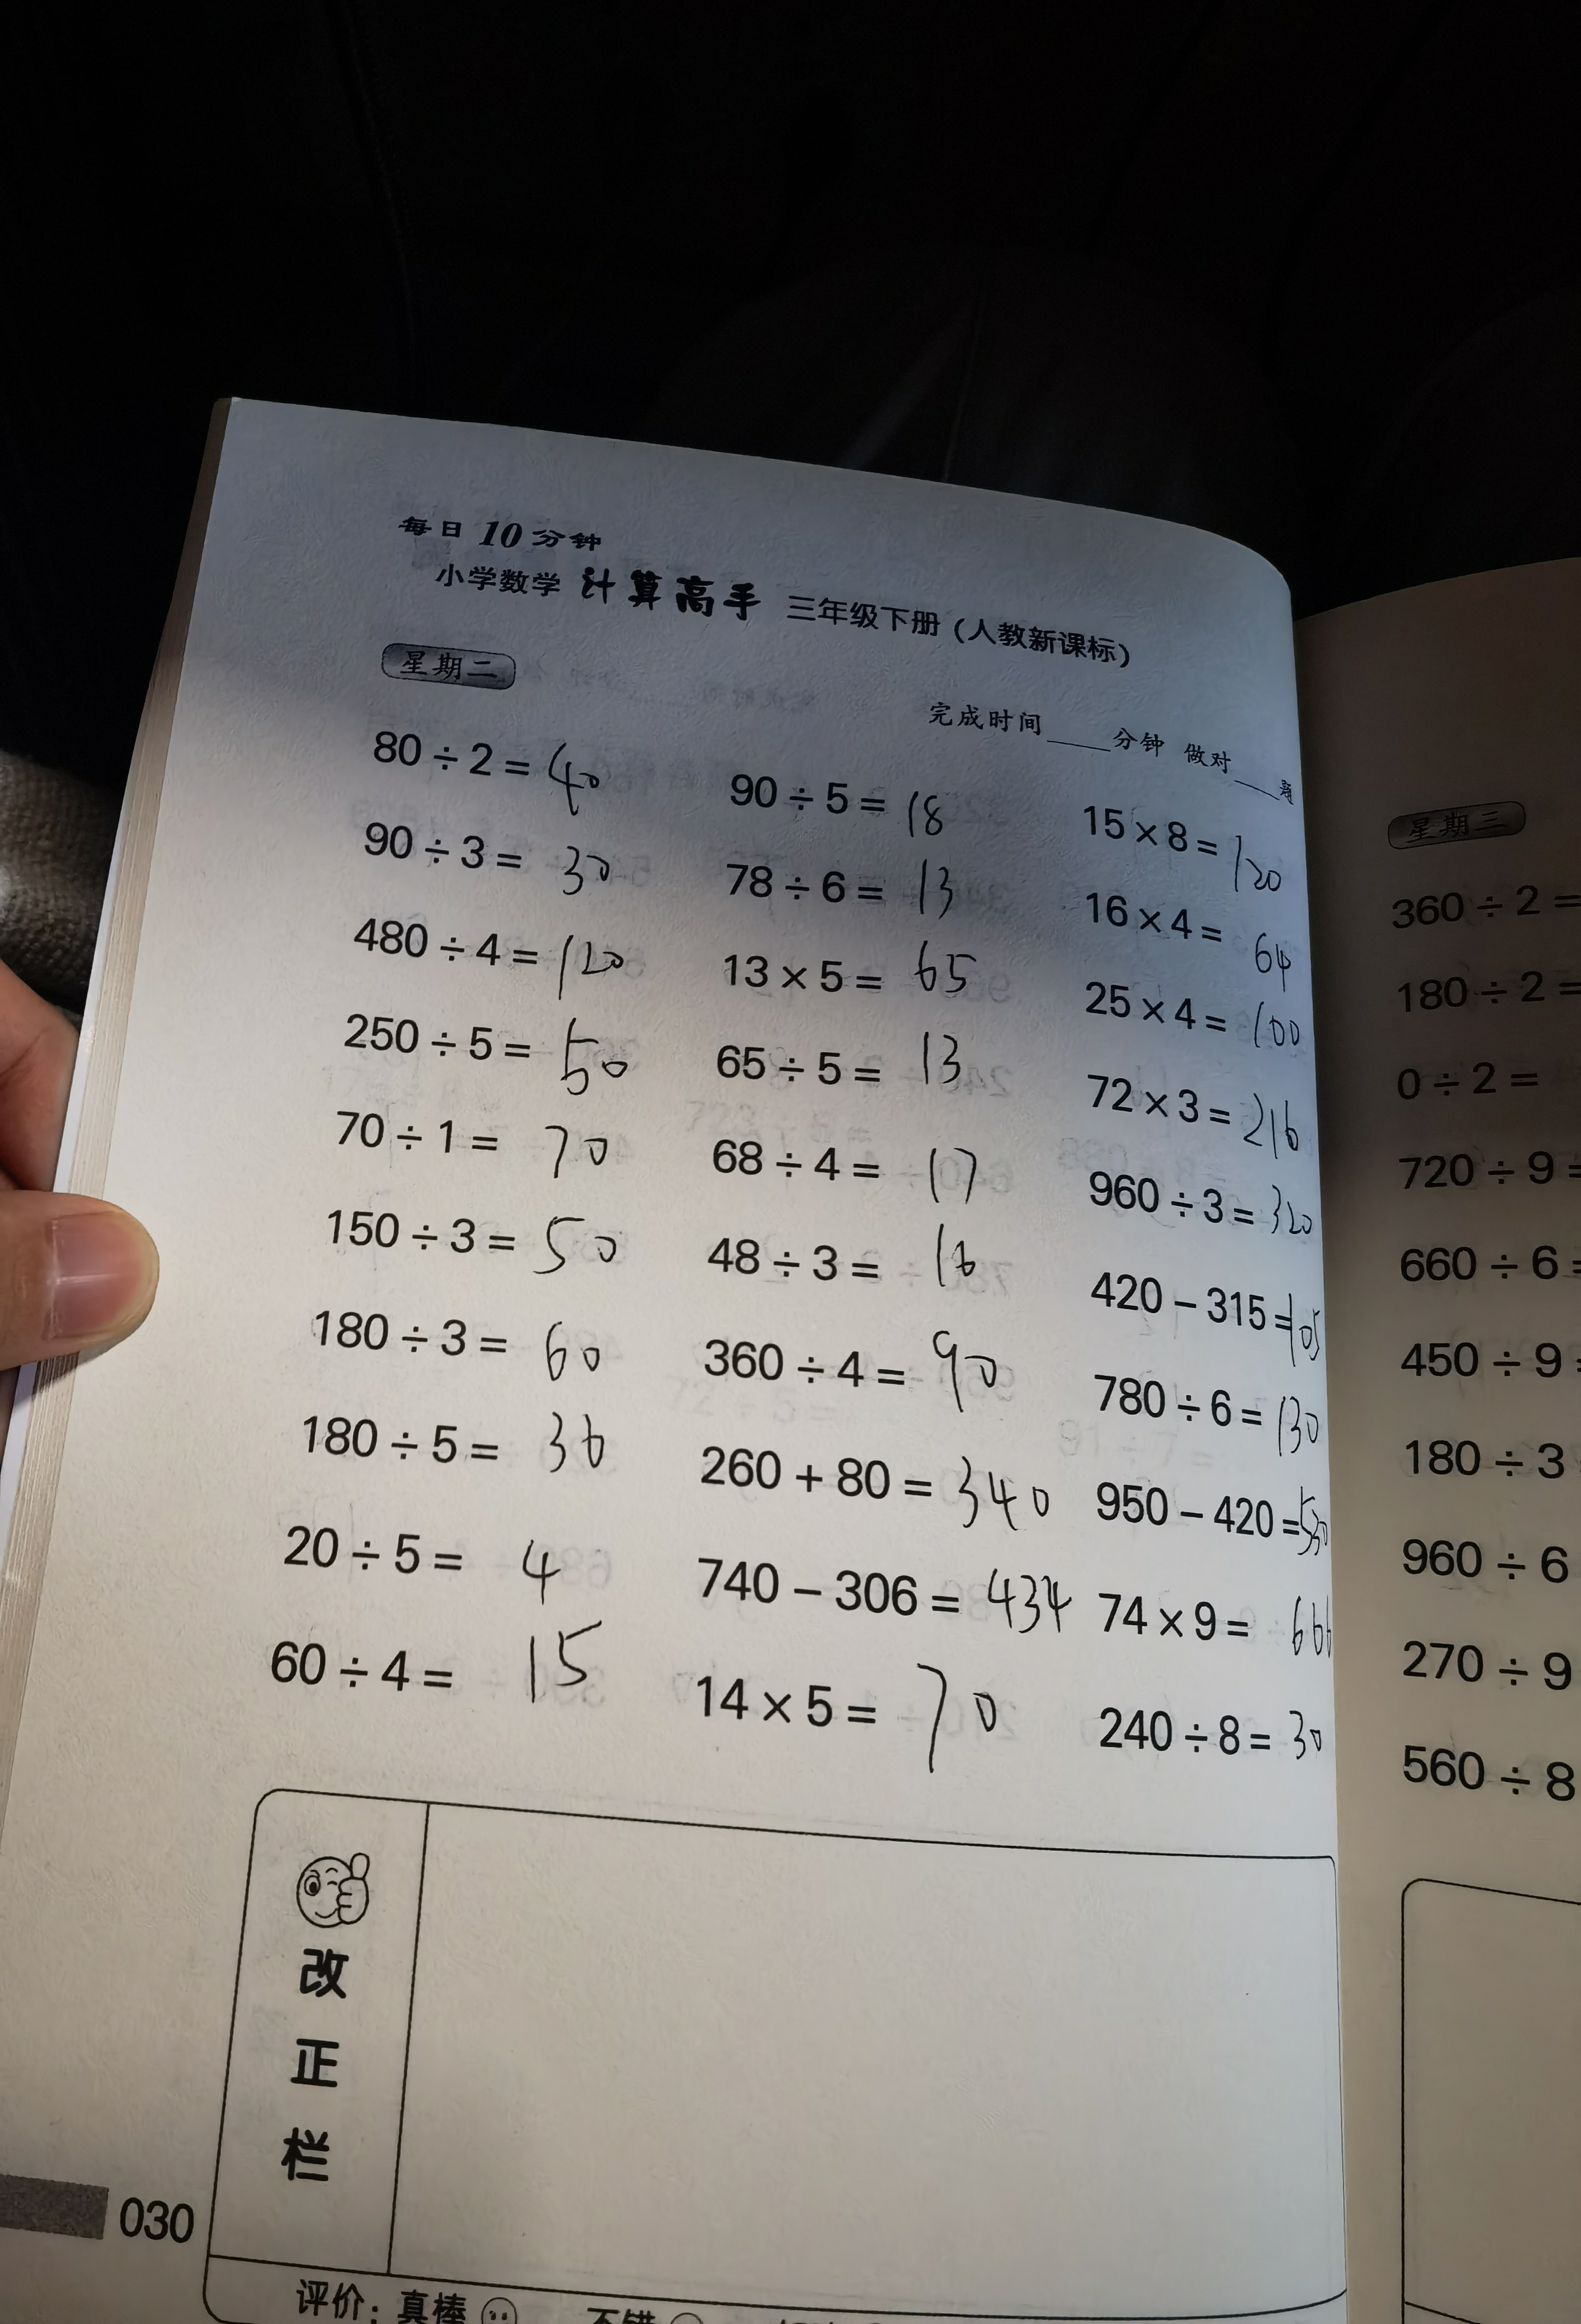equation: (219, 1615, 623, 1721), (681, 1421, 1071, 1528), (263, 1179, 611, 1295), (259, 1484, 579, 1609), (699, 1645, 1020, 1758), (333, 997, 642, 1110), (342, 693, 644, 806), (288, 1387, 628, 1484), (358, 806, 646, 916), (296, 1295, 609, 1392), (325, 1106, 641, 1200), (688, 1329, 1022, 1417), (348, 909, 655, 1004), (715, 739, 965, 851), (708, 925, 997, 1018), (699, 1551, 1085, 1620), (1092, 1579, 1350, 1682), (1083, 783, 1300, 903), (1085, 1689, 1345, 1788), (715, 1027, 1013, 1110), (1094, 1481, 1350, 1572), (1082, 1073, 1332, 1163), (709, 1225, 1023, 1295), (1089, 1272, 1334, 1359), (716, 1135, 986, 1209), (716, 845, 969, 923), (1082, 896, 1311, 981), (1096, 1373, 1329, 1452), (1094, 979, 1315, 1062), (1080, 1173, 1322, 1244)
